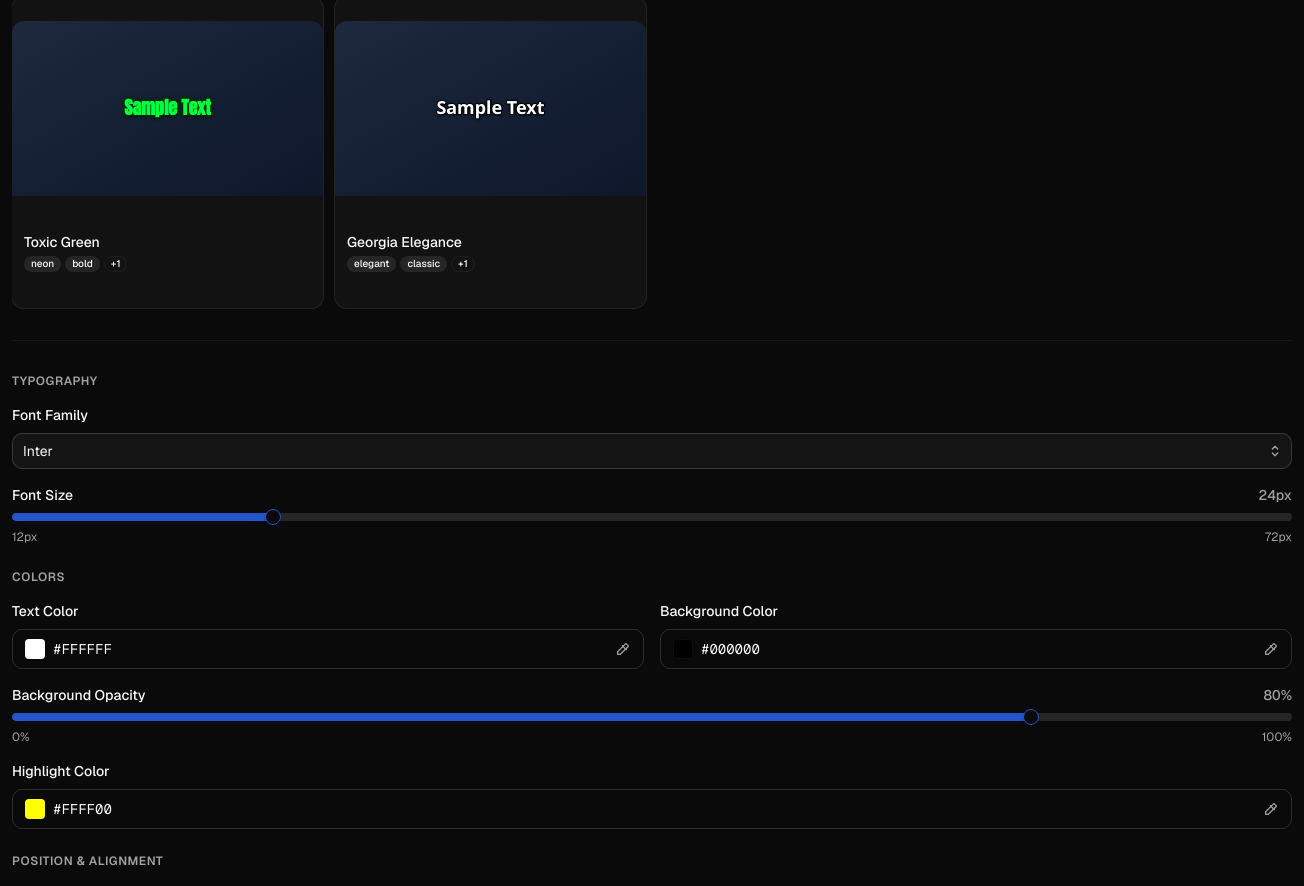
Test case: CaptionStylePanel › Font Selector (Requirement 8.1) › includes viral-optimized fonts in the list
(page scrolled)
# Open the dropdown
Click the dropdown named "select font family" at (38, 451), box [12,433,1292,469]
(page scrolled)
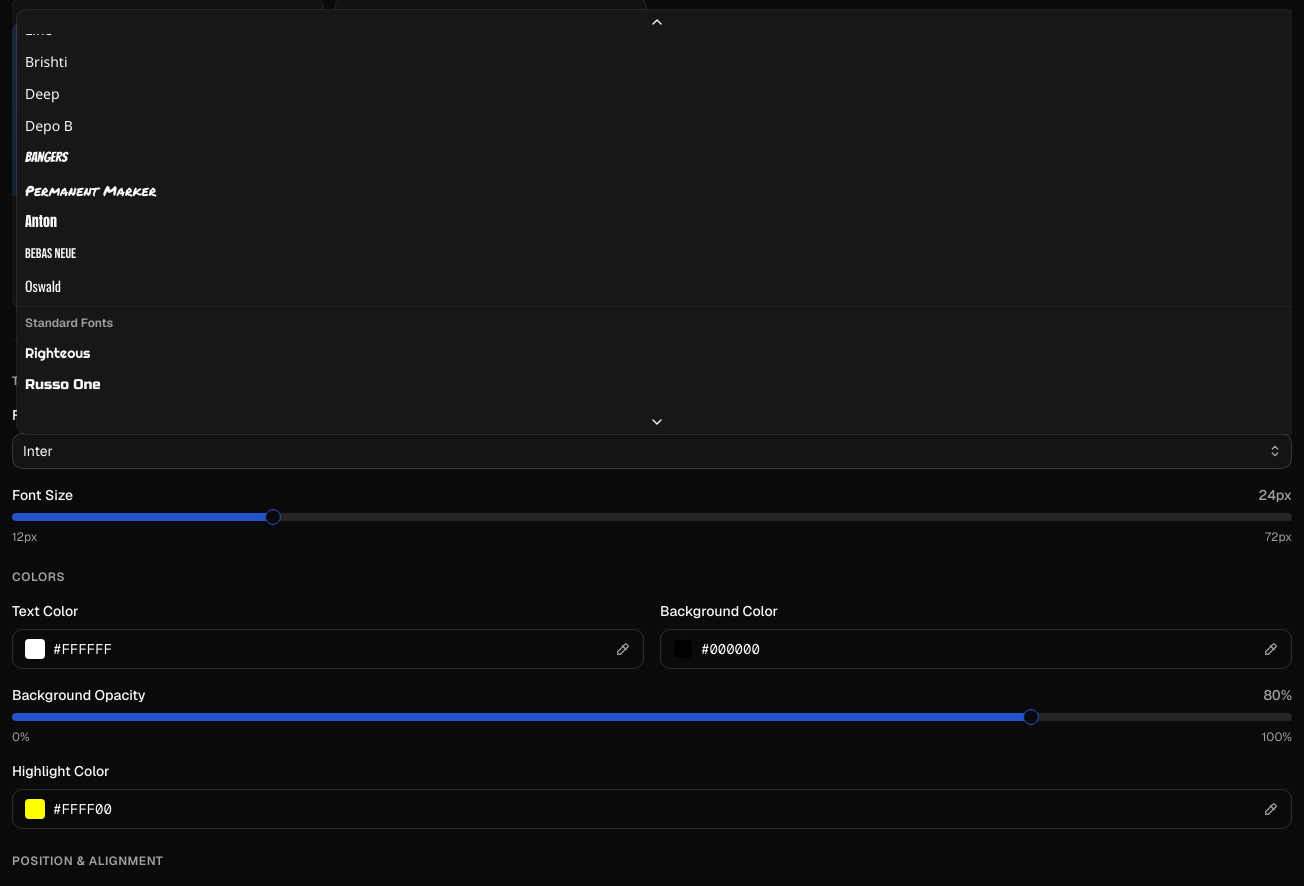
Now the option "Bangers" is shown, box [25,150,67,165]
Now the option "Permanent Marker" is shown, box [25,180,156,200]
Now the option "Anton" is shown, box [25,211,57,232]
